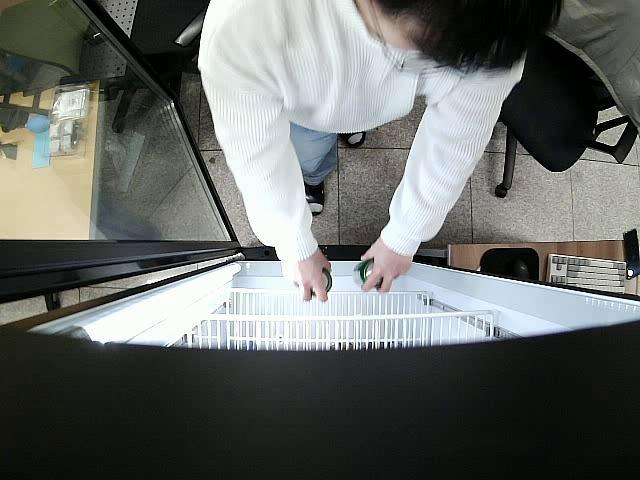12_chilsungCider: (352, 256, 392, 292), (313, 269, 332, 295)
